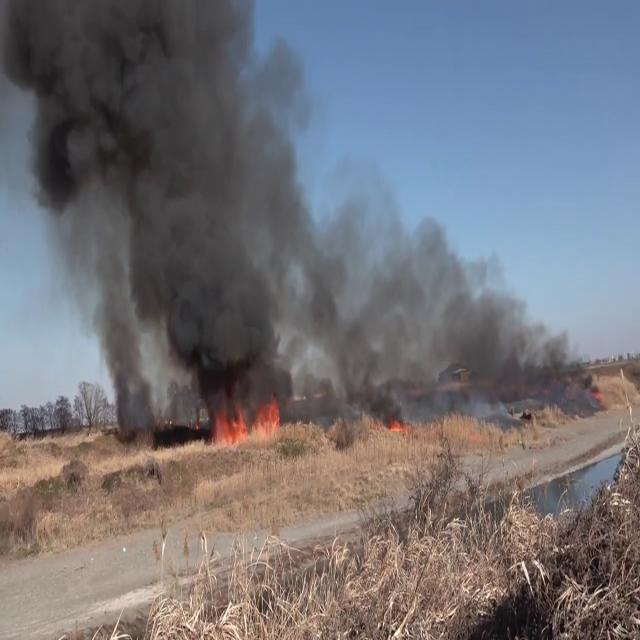Fire: (207, 384, 285, 447)
Smoke: (0, 0, 304, 415), (302, 194, 597, 412)
